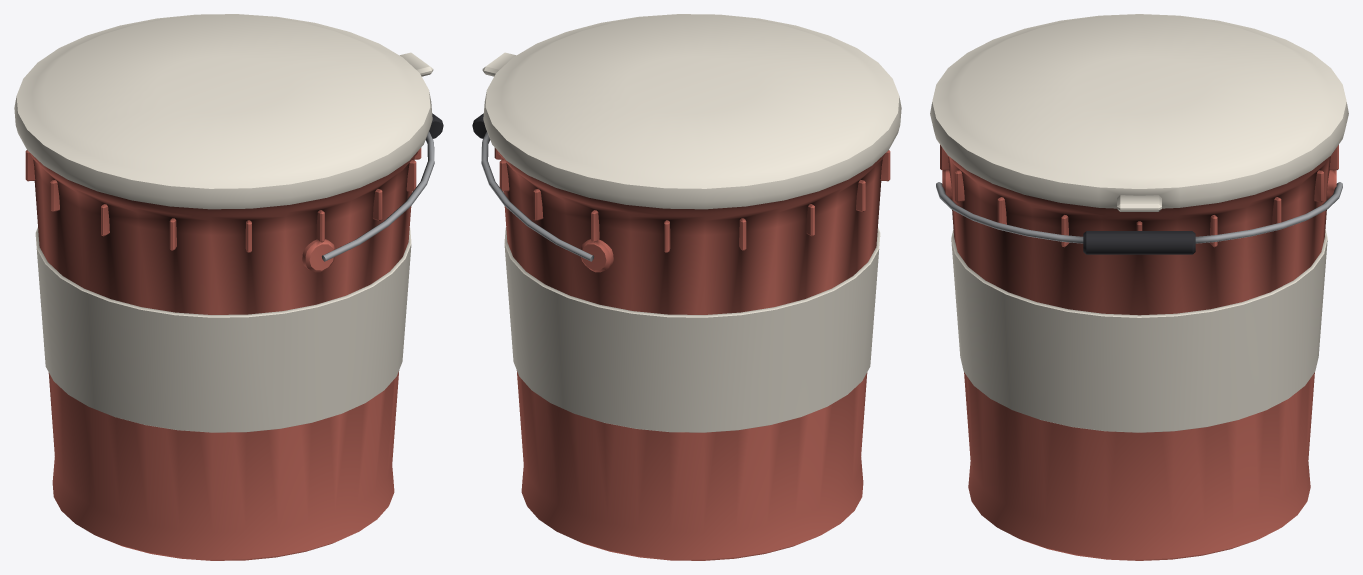
Rendered from junk_food_bucket.glb.
The picture shows the model from 3 angles, left to right: view 1: azimuth 30°, elevation 25°; view 2: azimuth 150°, elevation 25°; view 3: azimuth 270°, elevation 25°; orthographic projection.
Visible parts, largest first — view 1: PART; view 2: PART; view 3: PART.
Part boxes in pixels (left/top/right/bottom): PART: left=14, top=14, right=443, bottom=560; PART: left=472, top=14, right=901, bottom=560; PART: left=930, top=14, right=1348, bottom=560.
Bounding box in the file's own units: 0.391 × 0.399 × 0.372.
